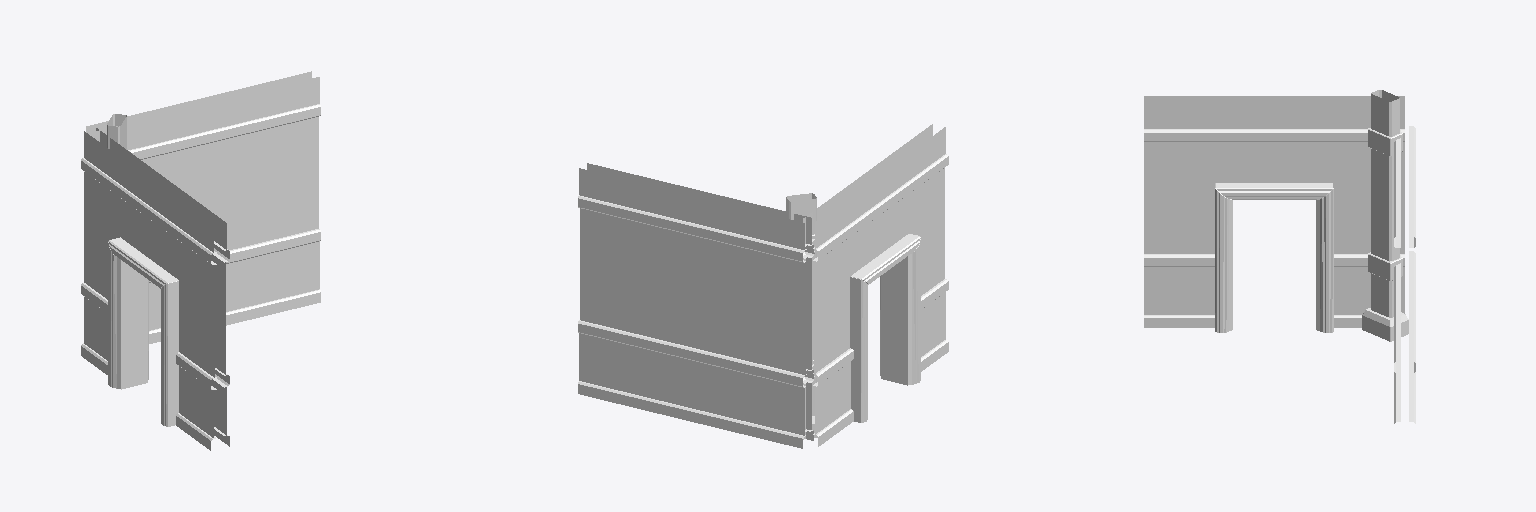
The model's file is Prefab_01.obj.
3 views of the same model, side by side, from view 1: azimuth 30°, elevation 25°; view 2: azimuth 150°, elevation 25°; view 3: azimuth 270°, elevation 25° (orthographic).
Parts seen in each view (by area): view 1: Object001, Object002, Object003, Box001; view 2: Object001, Object002, Object003, Box001; view 3: Object002, Object003, Box001, Object001.
Boxes of the visible parts, <box> form: Object001: <box>86,71,320,343</box>; Object002: <box>81,128,229,450</box>; Object003: <box>108,237,178,426</box>; Box001: <box>107,114,129,151</box>; Object001: <box>578,163,813,448</box>; Object002: <box>803,124,948,446</box>; Object003: <box>850,234,920,422</box>; Box001: <box>786,193,817,438</box>; Object002: <box>1144,96,1404,327</box>; Object003: <box>1215,183,1333,332</box>; Box001: <box>1362,90,1408,341</box>; Object001: <box>1394,126,1415,423</box>.
Size of the model in its own units: 434 by 400 by 416.